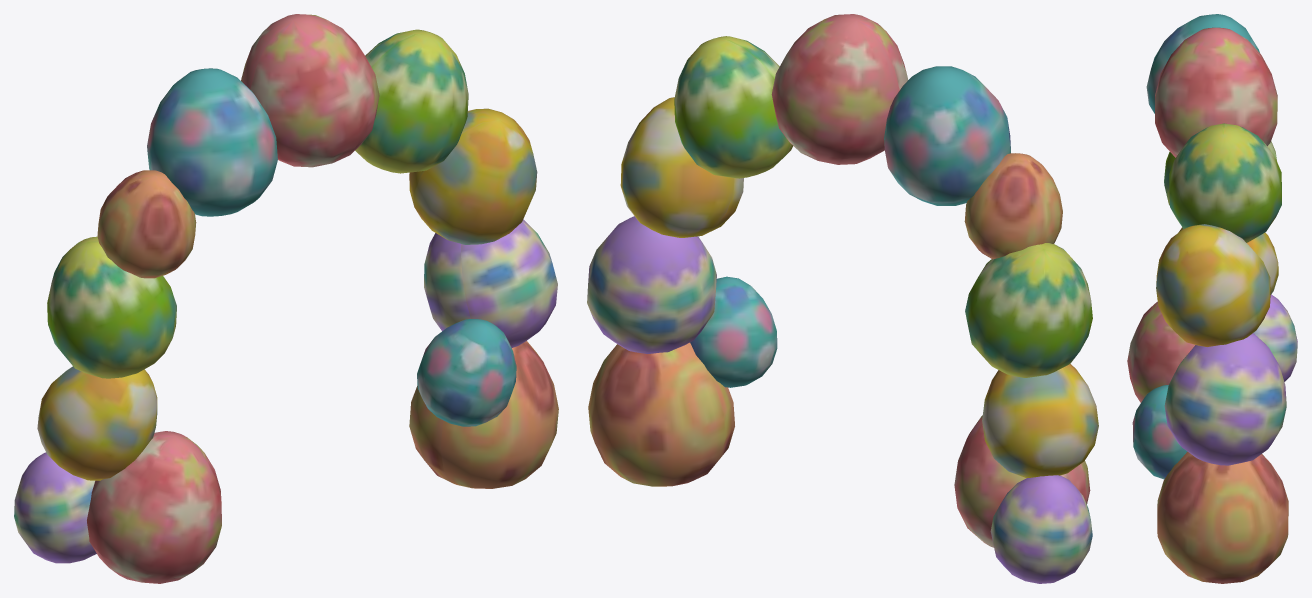
Rendered from egg-arch.glb.
3 renders of one model, left to right at view 1: azimuth 30°, elevation 25°; view 2: azimuth 150°, elevation 25°; view 3: azimuth 270°, elevation 25°, orthographic. The views are drawn at different scales.
Size of the model in its own units: 29.78 by 27.74 by 9.47.
1 material, 1 textured.
